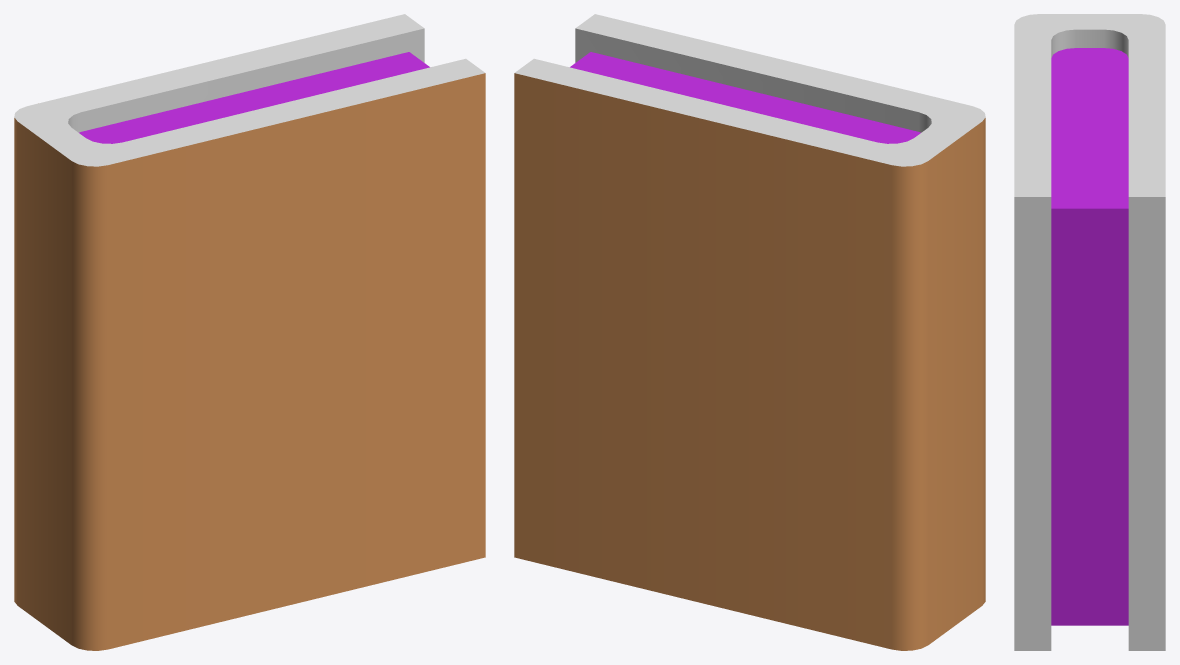
Rendered from Bock2.fbx.
3 renders of one model, left to right at view 1: azimuth 30°, elevation 25°; view 2: azimuth 150°, elevation 25°; view 3: azimuth 270°, elevation 25°, orthographic. The views are drawn at different scales.
Parts seen in each view (by area): view 1: bock; view 2: bock; view 3: bock.
Part boxes in pixels (x1=…): bock: x1=14, y1=14, x2=485, y2=650; bock: x1=514, y1=14, x2=985, y2=650; bock: x1=1014, y1=14, x2=1165, y2=650.
Size of the model in its own units: 52 by 60.08 by 18.15.
